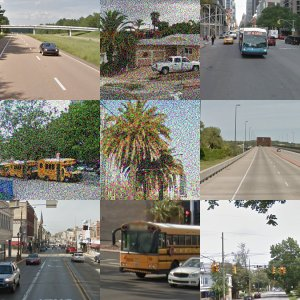公車: (225, 10, 300, 99), (209, 113, 297, 176), (100, 133, 157, 180)
汽車: (102, 30, 164, 80), (59, 29, 101, 83)
紅綠燈: (118, 200, 162, 214), (234, 220, 250, 232)
